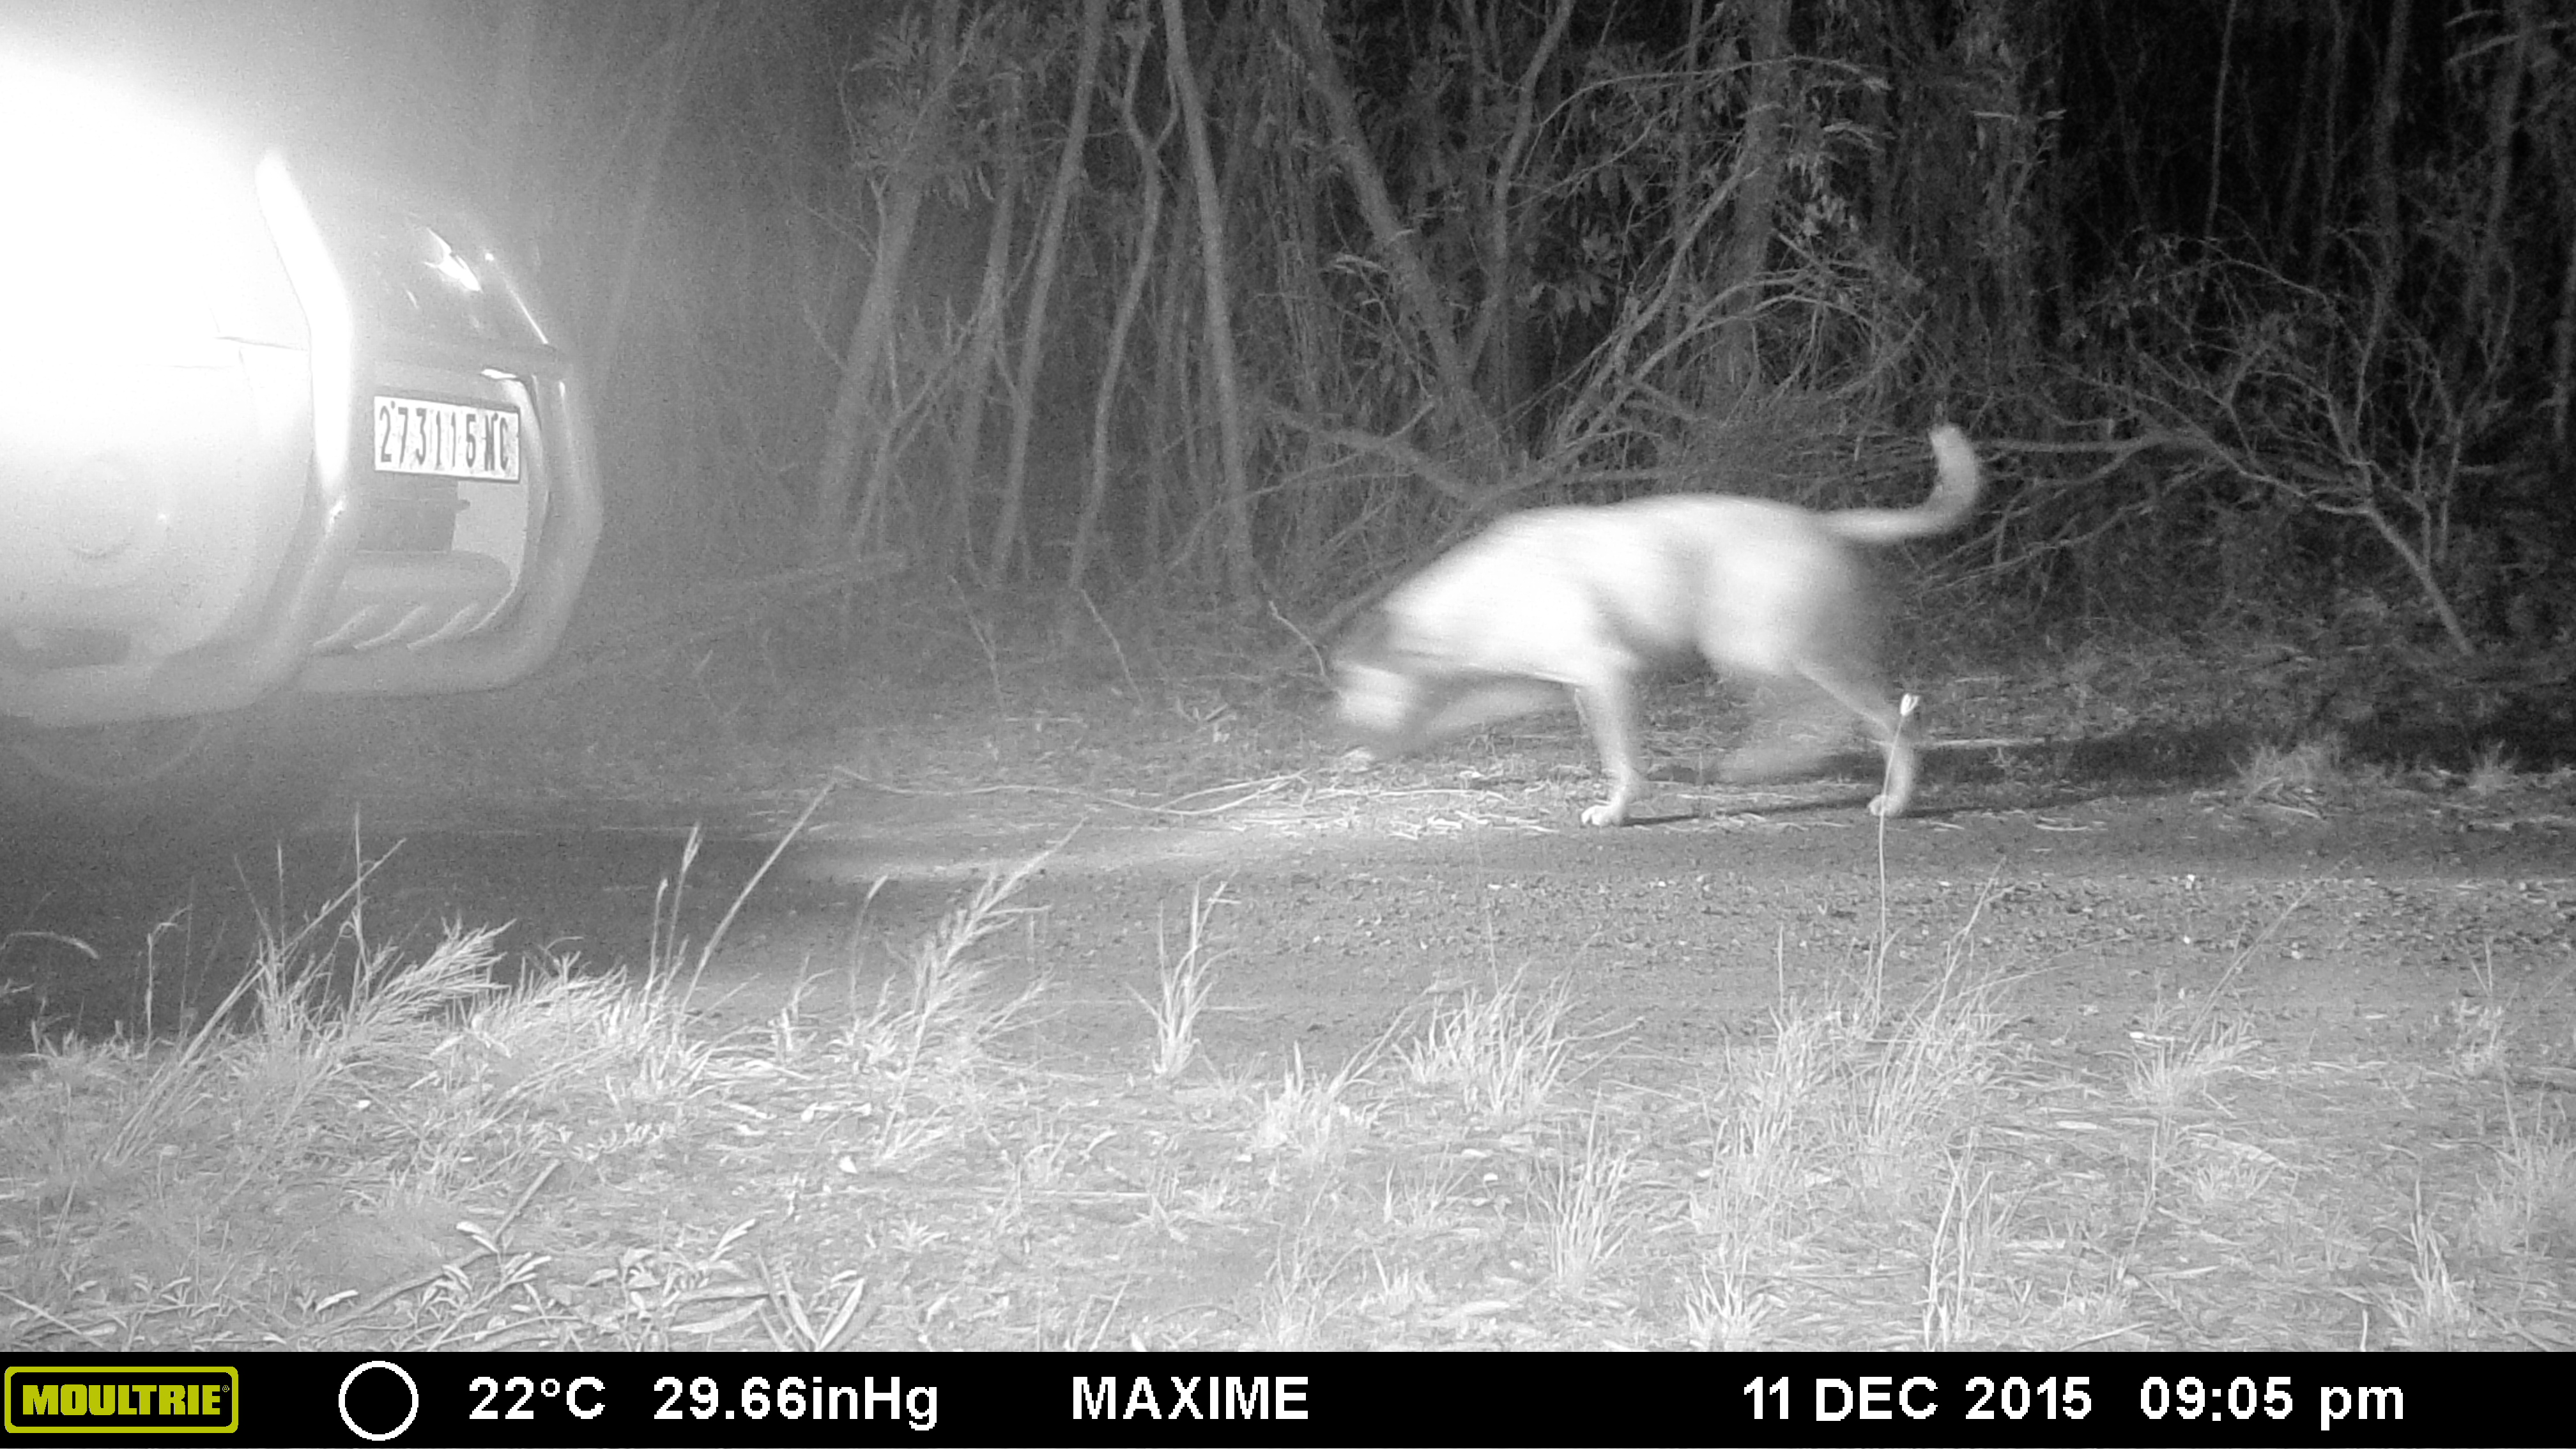Car: (2, 2, 623, 897)
Dog: (1315, 412, 1980, 849)
